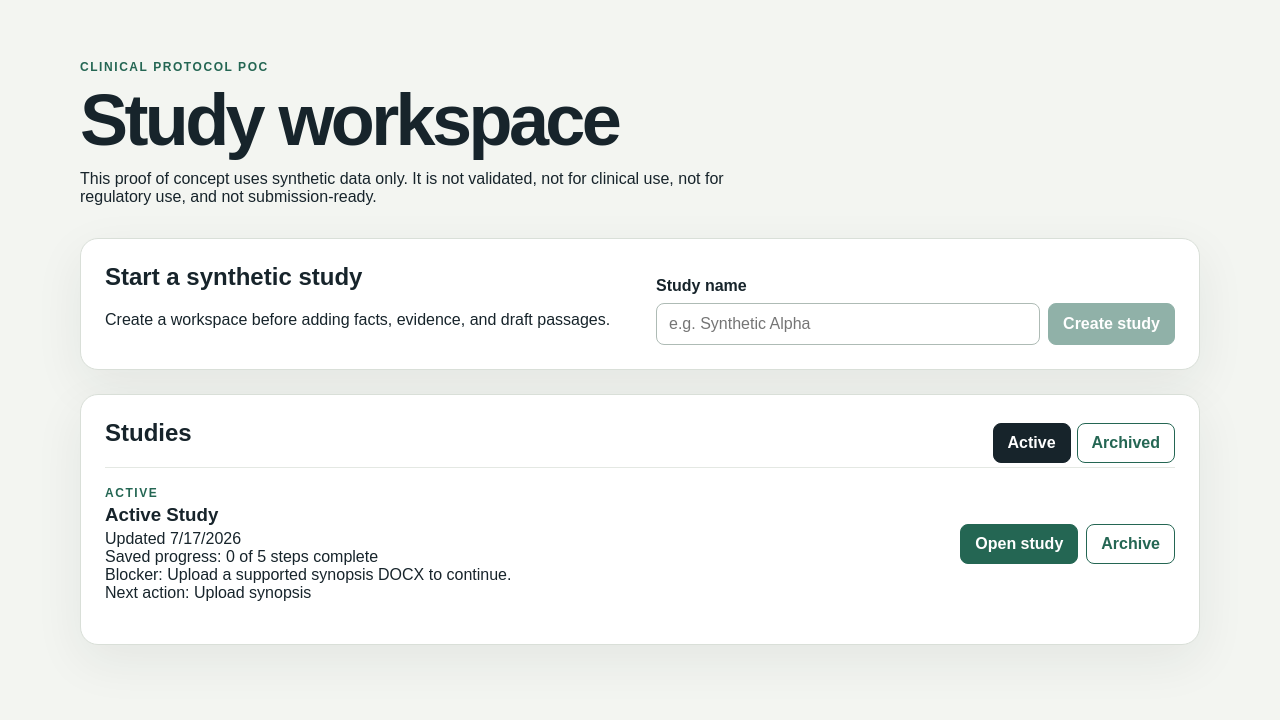
Test: StudyDashboard › shows server-derived saved progress, blockers, and next action for active studies
This screenshot has width=1280, height=720.
Check: the text "Active Study" is shown, box x1=105 y1=504 x2=218 y2=525
Click the tab "Archived".
click(1126, 443)  # box x1=1076 y1=423 x2=1175 y2=463
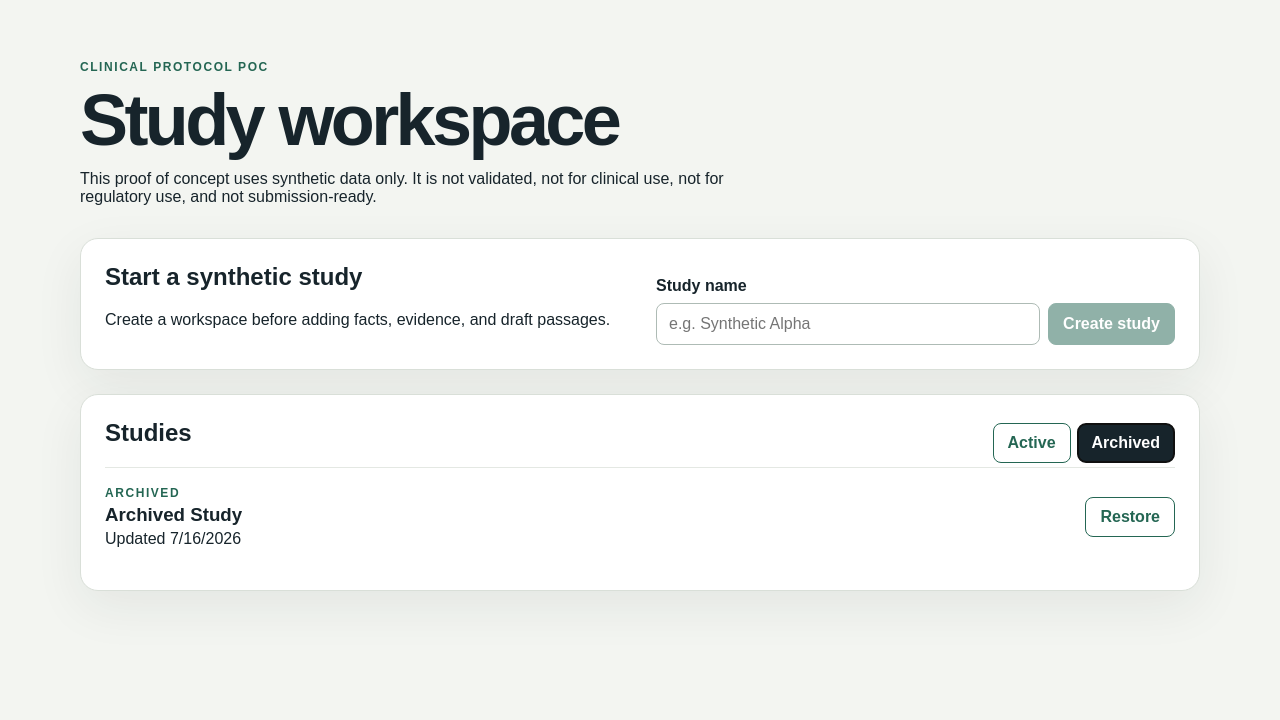
Check: the text "Archived Study" is shown, box x1=105 y1=504 x2=242 y2=525
Check: the text "Archived Study" no longer shows "Next action:"
Check: the button with aria-label "Restore Archived Study" is shown, box x1=1085 y1=497 x2=1175 y2=537
